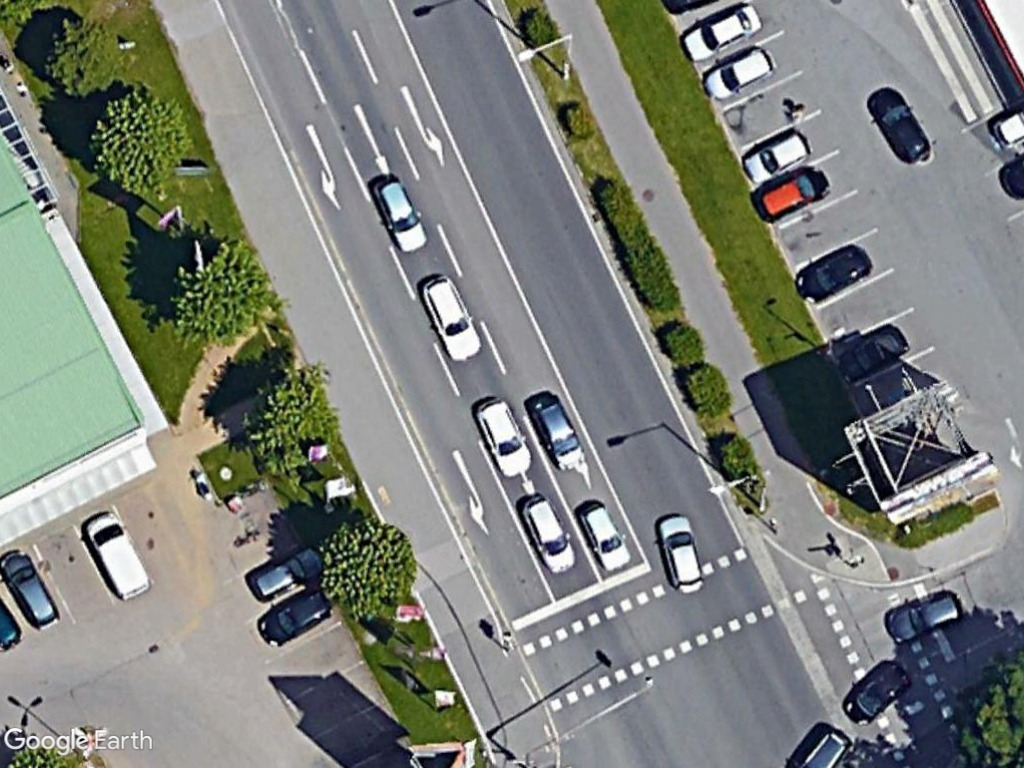car: (413, 265, 489, 366), (253, 576, 336, 654), (861, 84, 934, 170), (245, 534, 331, 605), (674, 0, 766, 62), (877, 585, 969, 646), (749, 160, 834, 226), (528, 388, 591, 477), (838, 658, 915, 730), (826, 324, 915, 386), (470, 394, 531, 484), (791, 242, 877, 305), (696, 40, 781, 102), (518, 492, 579, 578), (371, 172, 432, 256), (0, 547, 61, 630), (740, 124, 816, 188), (652, 511, 707, 598), (577, 499, 636, 573)
van: (75, 508, 156, 605)
